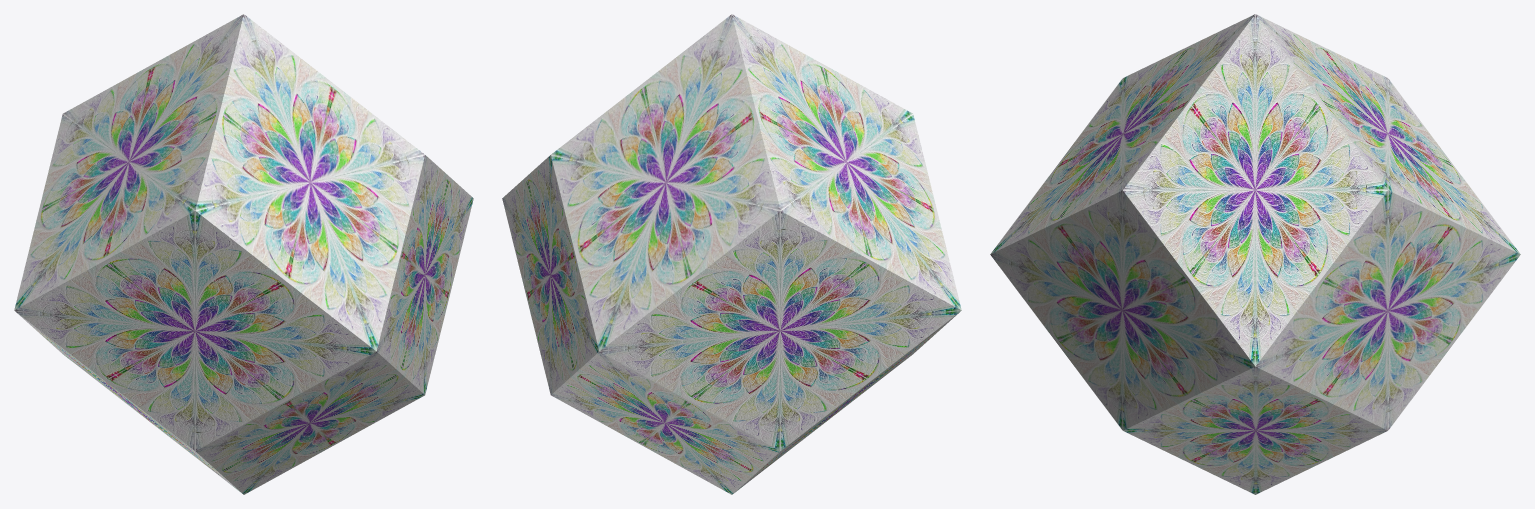
The model's file is RhombicDodecahedron8.obj.
3 views of the same model, side by side, from view 1: azimuth 30°, elevation 25°; view 2: azimuth 150°, elevation 25°; view 3: azimuth 270°, elevation 25° (orthographic).
Bounding box in the file's own units: 2.12 × 2.12 × 2.12.
1 material, 1 textured.
